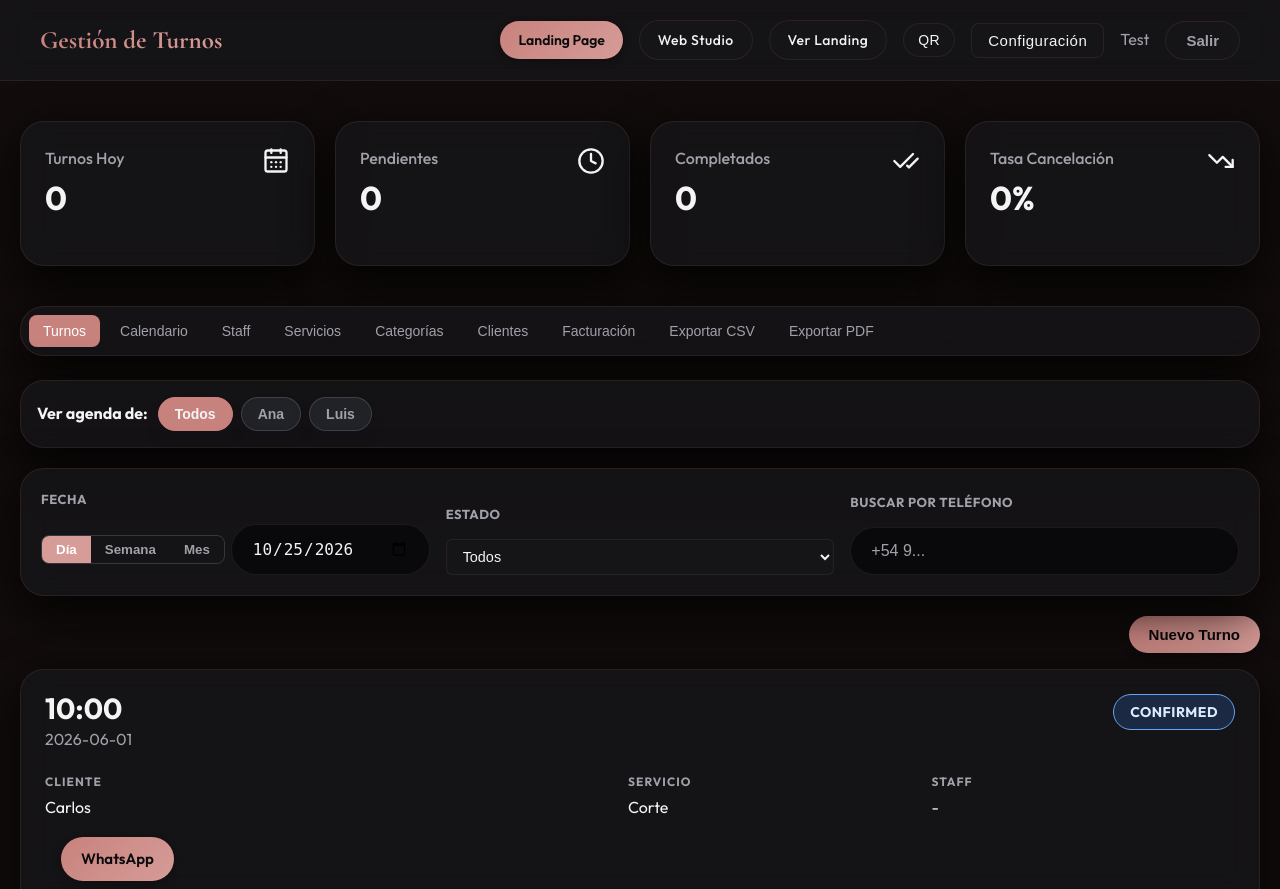
Test: StaffDashboard › switches between tabs
Expected: the text "Carlos" is shown, [45,797,91,817]
What coordinates should you click on to do the following:
click the button "Staff"
I would click on:
 (236, 331)
Its box is [208,315,264,347].
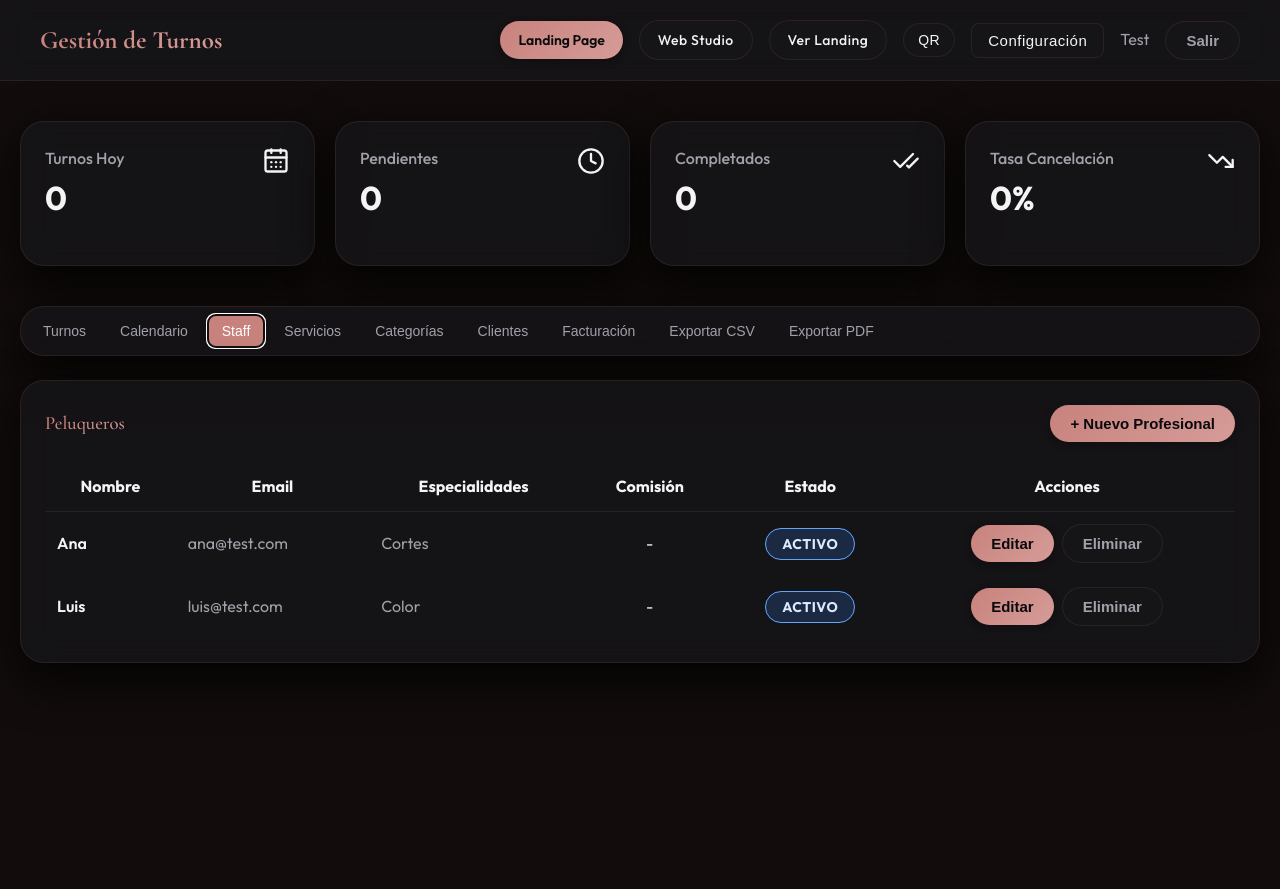
Expected: the text "Ana" is shown, [45,512,176,575]
Expected: the text "Luis" is shown, [45,575,176,638]
What coordinates should you click on to do the following:
click the button "Servicios"
I would click on:
 (313, 331)
Its box is [270,315,355,347].
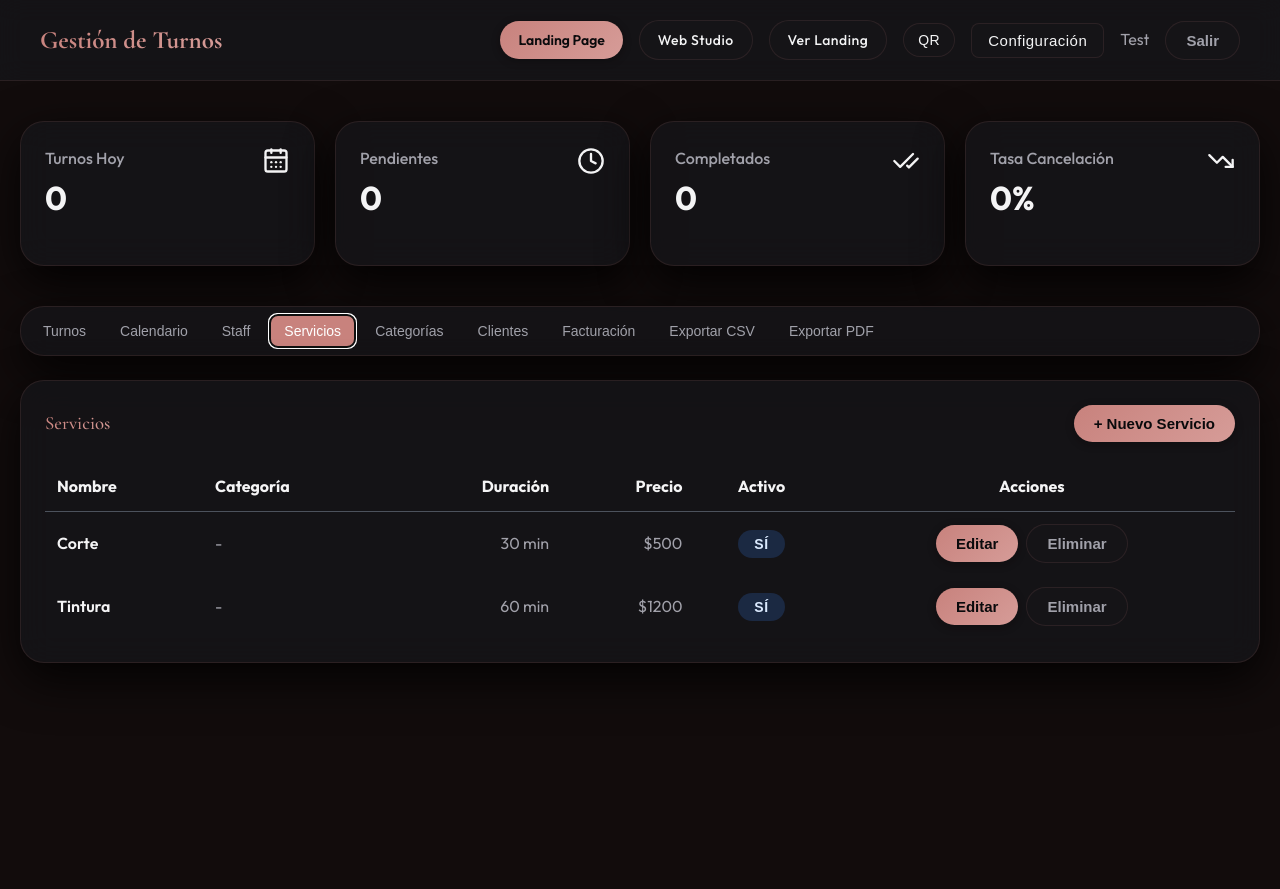
Expected: the text "Corte" is shown, [45,512,203,575]
